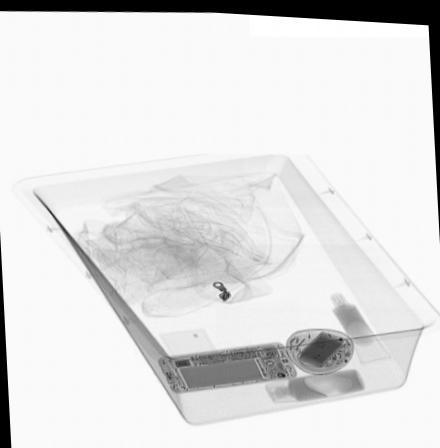Powerbank: (297, 327, 345, 364)
